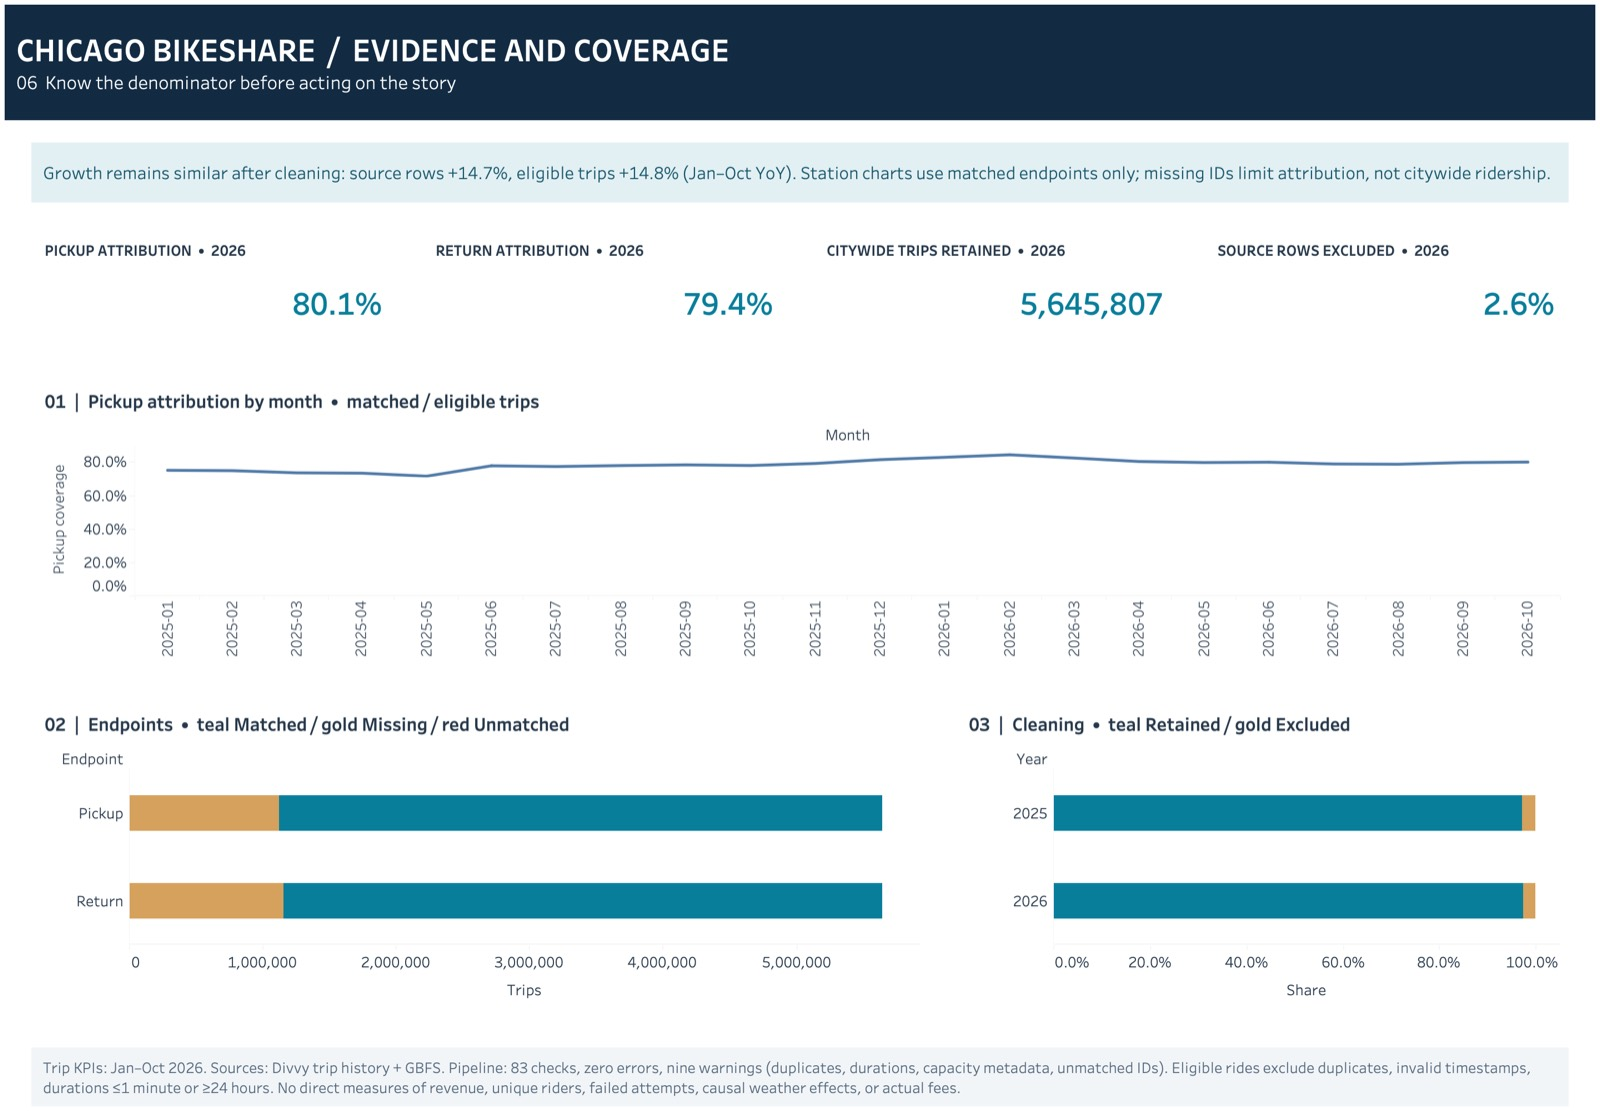

What the dashboard file says about the page in this screenshot:
{"tool":"tableau","page":{"name":"06 Evidence and Coverage","canvas":[1440,1000],"ordinal":5},"visuals":[{"type":"text","box":[0,0,1440,110]},{"type":"text","box":[24,122,1392,60]},{"type":"worksheet","title":"Pickup attribution","mark":"Text","box":[24,194,336,115]},{"type":"worksheet","title":"Return attribution","mark":"Text","box":[376,194,336,115]},{"type":"worksheet","title":"Eligible comparable rides","mark":"Text","box":[728,194,336,115]},{"type":"worksheet","title":"Cleaning exclusion share","mark":"Text","box":[1080,194,336,115]},{"type":"worksheet","title":"Attribution over time","mark":"Line","rows":["Pickup coverage"],"cols":["Month"],"box":[24,325,1392,270]},{"type":"worksheet","title":"Endpoint coverage breakdown","mark":"Bar","rows":["Endpoint"],"cols":["Trips"],"box":[24,611,816,290]},{"type":"worksheet","title":"Cleaning comparison","mark":"Bar","rows":["Year"],"cols":["Share"],"box":[856,611,560,290]},{"type":"text","box":[24,920,1392,60]}]}

Visuals, with their boxes in screenshot pixels (x1, y1, x2, y2), scaled from the page's 1440x1000 canvas onto the 1600x1111 screenshot:
text: x1=0 y1=0 x2=1599 y2=122
text: x1=27 y1=136 x2=1573 y2=202
"Pickup attribution" worksheet (Text marks): x1=27 y1=216 x2=400 y2=343
"Return attribution" worksheet (Text marks): x1=418 y1=216 x2=791 y2=343
"Eligible comparable rides" worksheet (Text marks): x1=809 y1=216 x2=1182 y2=343
"Cleaning exclusion share" worksheet (Text marks): x1=1200 y1=216 x2=1573 y2=343
"Attribution over time" worksheet (Line marks): x1=27 y1=361 x2=1573 y2=661
"Endpoint coverage breakdown" worksheet (Bar marks): x1=27 y1=679 x2=933 y2=1001
"Cleaning comparison" worksheet (Bar marks): x1=951 y1=679 x2=1573 y2=1001
text: x1=27 y1=1022 x2=1573 y2=1089
